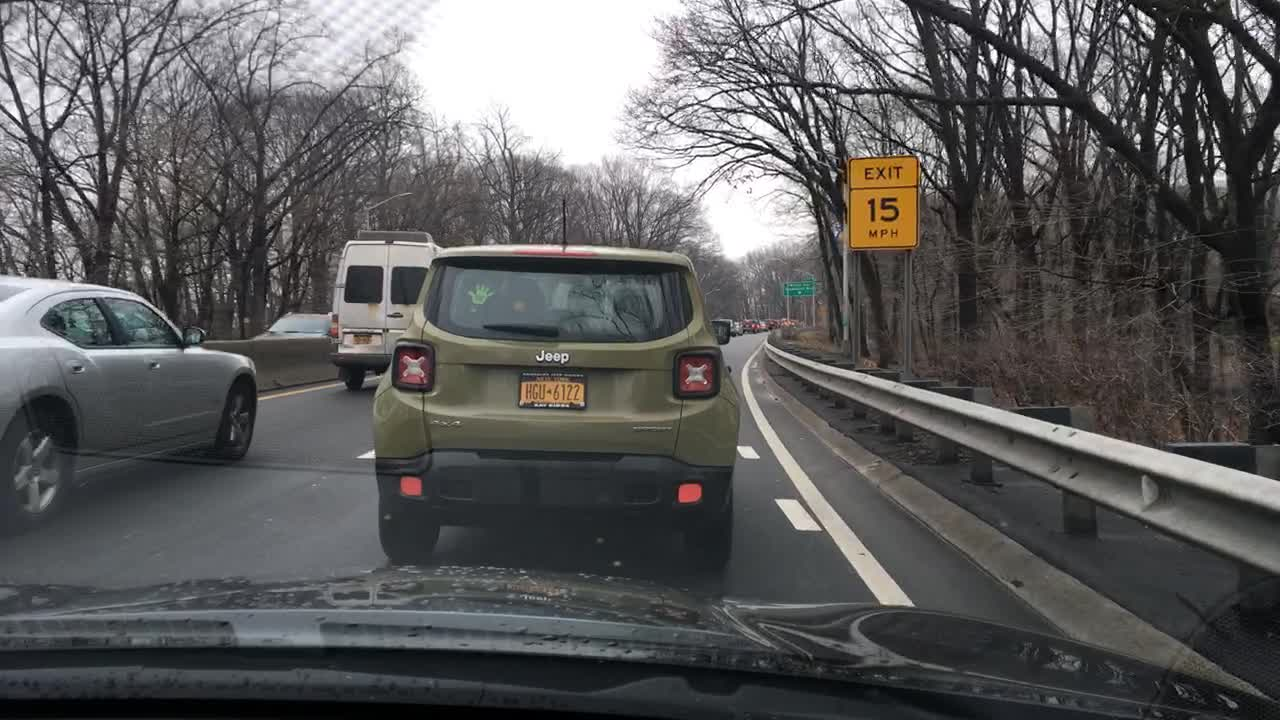car: (370, 193, 738, 567), (0, 273, 257, 537), (327, 228, 442, 389), (254, 307, 338, 337), (717, 315, 736, 336), (741, 317, 758, 333), (752, 318, 767, 335), (733, 318, 745, 333), (764, 317, 778, 327), (778, 317, 793, 326)
traffic sign: (846, 155, 918, 250), (780, 278, 812, 296)
